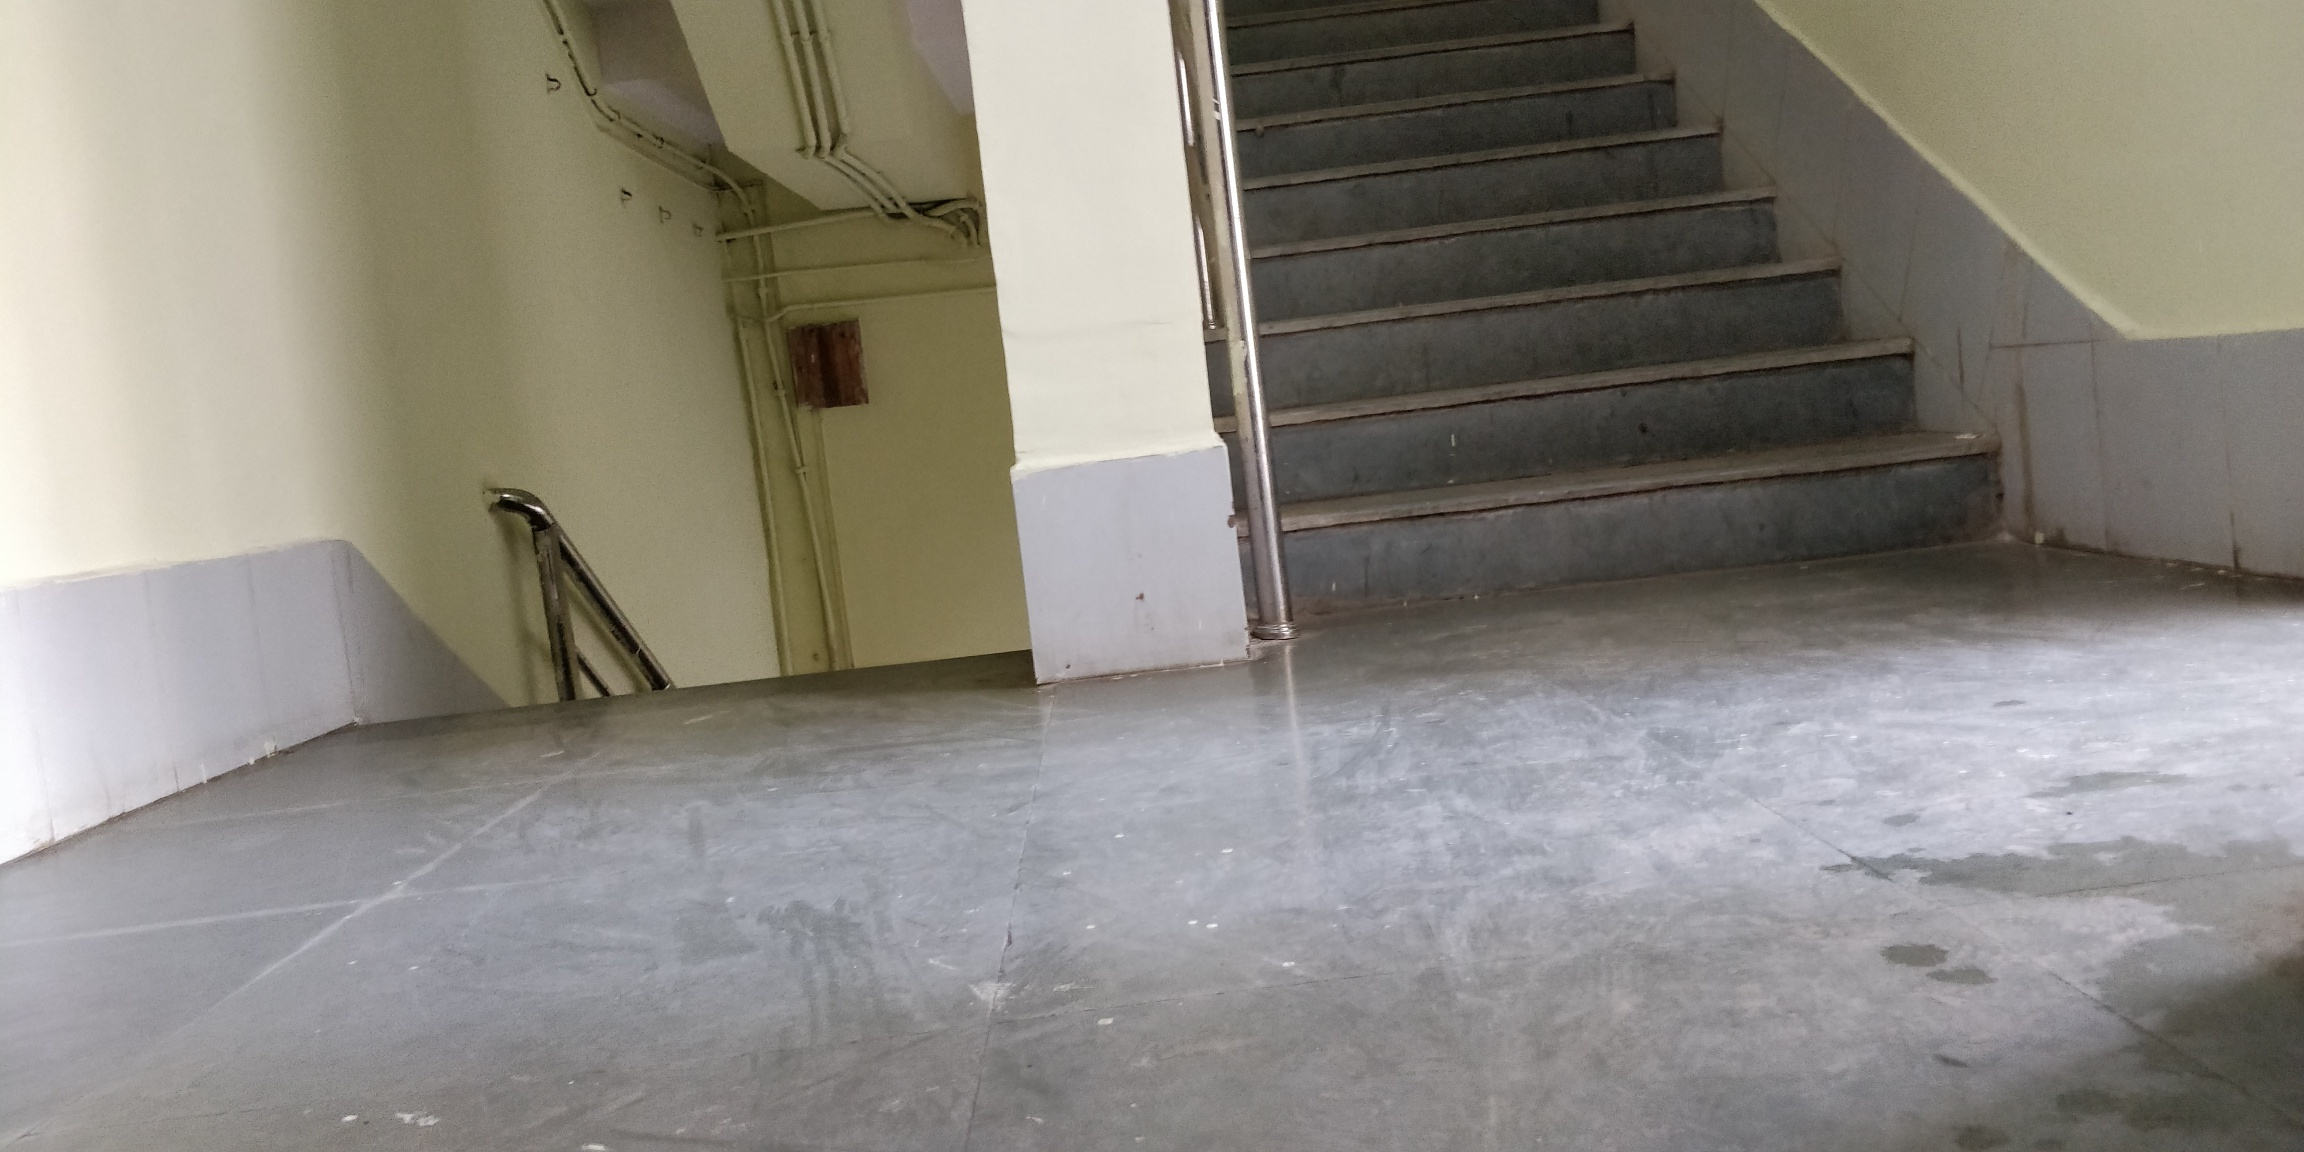stairs_up: (1176, 18, 2001, 652)
